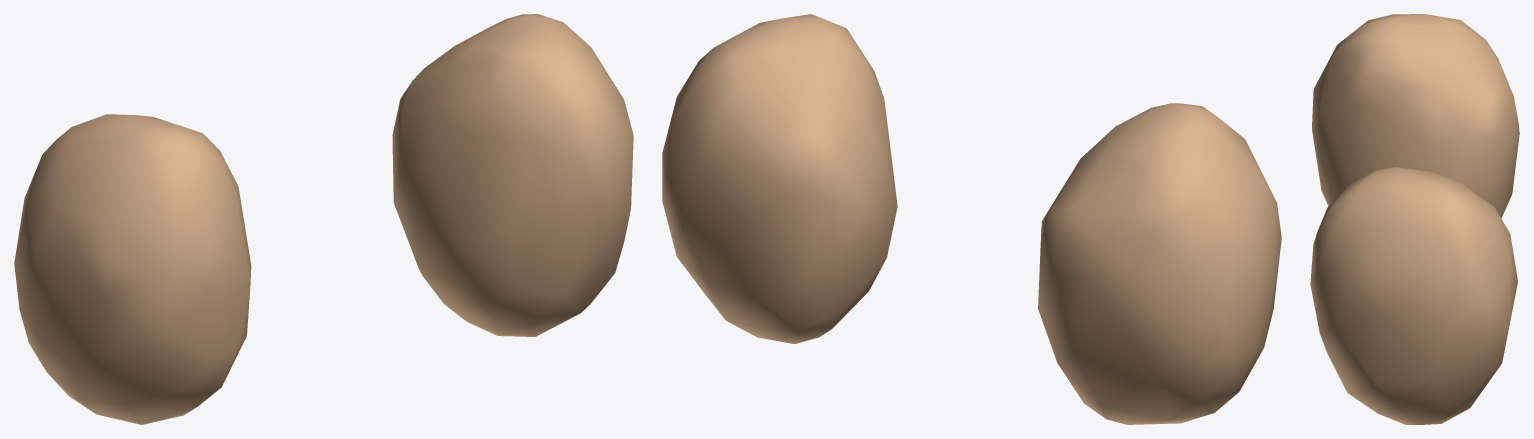
The model's file is gonaden_maennlich-bp.glb.
The picture shows the model from 3 angles, left to right: view 1: azimuth 30°, elevation 25°; view 2: azimuth 150°, elevation 25°; view 3: azimuth 270°, elevation 25°; orthographic projection. The views are drawn at different scales.
Visible parts, largest first — view 1: FJ3138 Left testis, FJ3142 Right testis; view 2: FJ3142 Right testis, FJ3138 Left testis; view 3: FJ3138 Left testis, FJ3142 Right testis.
Part boxes in pixels (x1,y1,x2,y2): FJ3138 Left testis: [392, 14, 633, 336]; FJ3142 Right testis: [14, 114, 251, 424]; FJ3142 Right testis: [1038, 103, 1281, 424]; FJ3138 Left testis: [662, 14, 897, 344]; FJ3138 Left testis: [1310, 167, 1517, 424]; FJ3142 Right testis: [1312, 14, 1519, 218].
Size of the model in its own units: 3.4 by 1.7 by 1.3.
